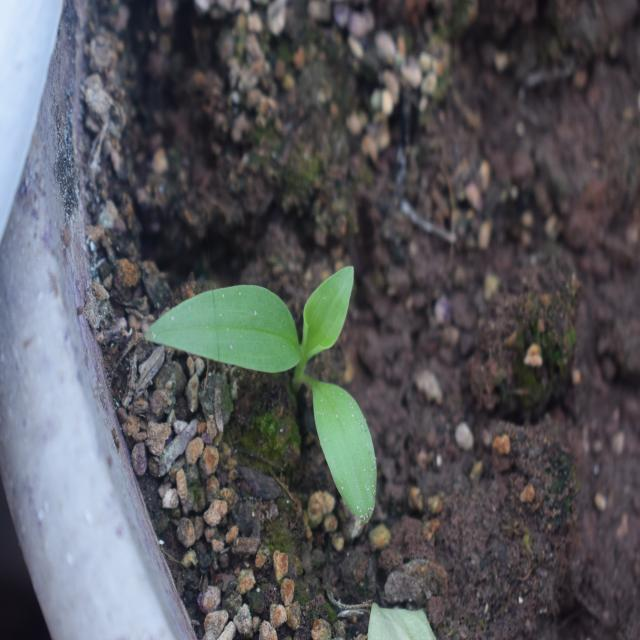Common Dayflower: (133, 251, 381, 524)
